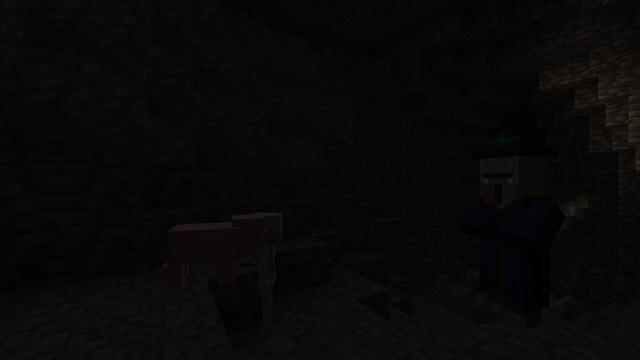cochons: (175, 218, 242, 297)
sorcieres: (472, 147, 555, 336)
squelettes: (246, 212, 288, 338)
